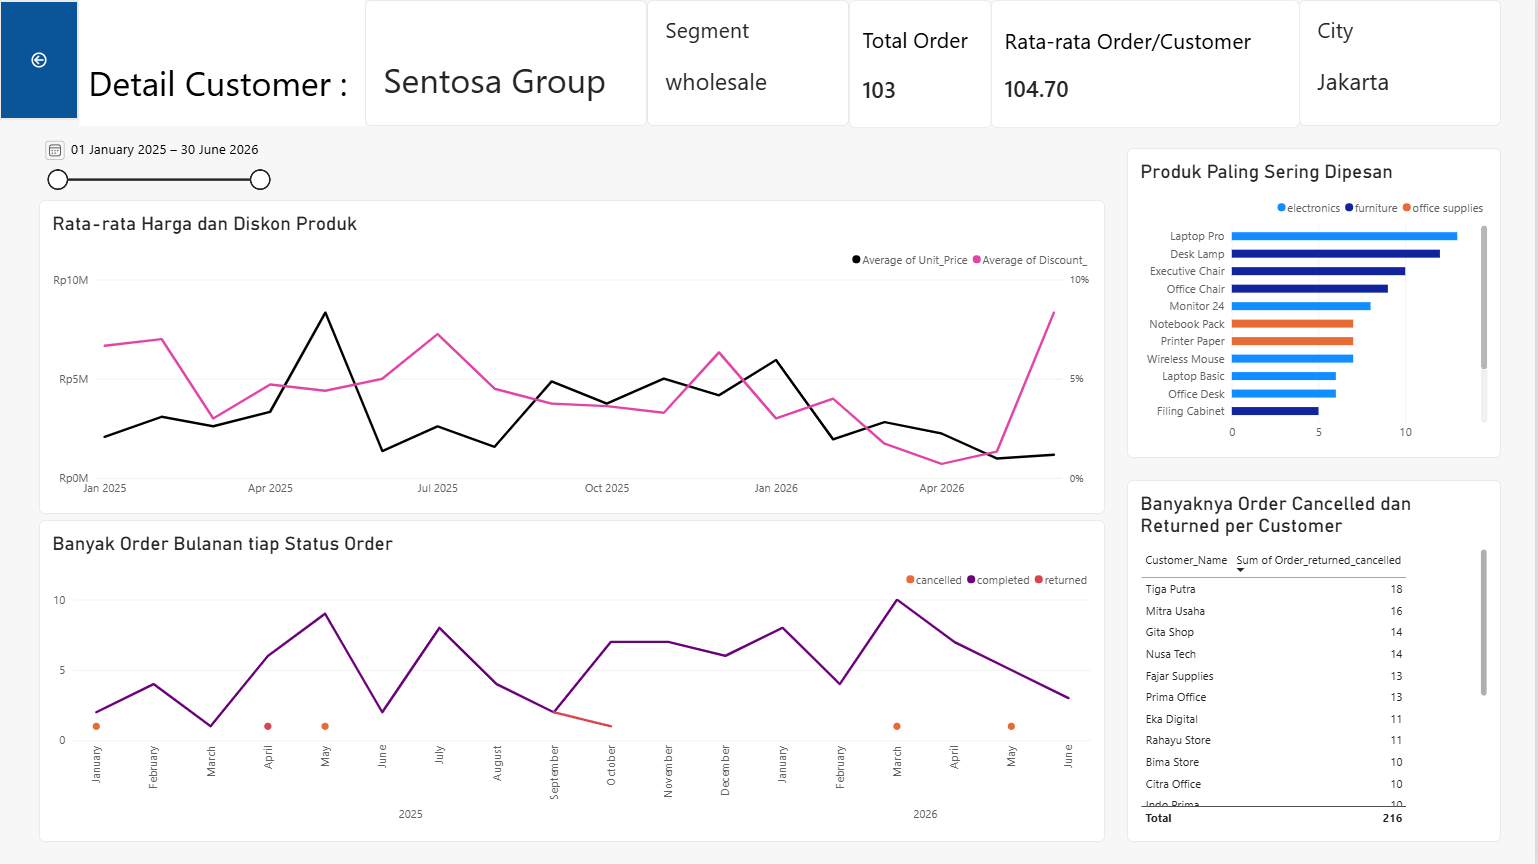

The dashboard page shown, as its layout file describes it:
{"tool":"powerbi","page":{"name":"Customer Details","canvas":[1920,1080],"ordinal":2},"visuals":[{"type":"actionButton","box":[0,0,100,40],"z":0},{"type":"cardVisual","fields":{"Data":["sales_all.Total Order"]},"box":[1062,0,178,160],"z":1000},{"type":"actionButton","box":[0,0,100,150],"z":2000},{"type":"tableEx","fields":{"Values":["Customers_Raw.Customer_Name"]},"box":[457.5,0,352.5,157.5],"z":3000},{"type":"textbox","box":[100,0,357.5,157.5],"z":4000},{"type":"tableEx","fields":{"Values":["Customers_Raw.City"]},"box":[1625,0,252.5,157.5],"z":5000},{"type":"clusteredBarChart","title":"Banyaknya Order Cancelled dan Returned per Customer","fields":{"Category":["Customers_Raw_reference.Customer_Name"],"Y":["Sum(Customers_Raw_reference.Order_returned_cancelled)"]},"box":[1410,600,467.5,452.5],"z":6000},{"type":"barChart","title":"Produk Paling Sering Dipesan","fields":{"Category":["products_raw.Product_Name"],"Series":["products_raw.Category"],"Y":["CountNonNull(sales_all.Order_ID)"]},"box":[1410,185,467.5,387.5],"z":7000},{"type":"slicer","fields":{"Values":["DateTable.Date"]},"box":[50,170,292.5,97.5],"z":8000},{"type":"lineChart","title":"Banyak Order Bulanan tiap Status Order","fields":{"Category":["DateTable.Date.Variation.Date Hierarchy.Year","DateTable.Date.Variation.Date Hierarchy.Month"],"Series":["sales_all.Order_Status"],"Y":["CountNonNull(sales_all.Order_ID)"]},"box":[50,650,1332.5,402.5],"z":9000},{"type":"tableEx","fields":{"Values":["Customers_Raw.Segment"]},"box":[810,0,252.5,157.5],"z":10000},{"type":"lineChart","title":"Rata-rata Harga dan Diskon Produk","fields":{"Category":["DateTable.Date.Variation.Date Hierarchy.Year","DateTable.Date.Variation.Date Hierarchy.Month"],"Y":["Avg(sales_all.Unit_Price)"],"Y2":["Avg(sales_all.Discount_calculated)"]},"box":[50,250,1332.5,392.5],"z":11000},{"type":"cardVisual","fields":{"Data":["sales_all.Avg Order Customer (All)"]},"box":[1240,0,386,160],"z":12000}]}

Visuals, with their boxes in screenshot pixels (x1, y1, x2, y2), scaled from the page's 1920x1080 canvas onto the 1538x864 screenshot:
actionButton: <bbox>0, 0, 80, 32</bbox>
cardVisual - sales_all.Total Order: <bbox>851, 0, 993, 128</bbox>
actionButton: <bbox>0, 0, 80, 120</bbox>
tableEx - Customers_Raw.Customer_Name: <bbox>366, 0, 649, 126</bbox>
textbox: <bbox>80, 0, 366, 126</bbox>
tableEx - Customers_Raw.City: <bbox>1302, 0, 1504, 126</bbox>
"Banyaknya Order Cancelled dan Returned per Customer" clusteredBarChart: <bbox>1129, 480, 1504, 842</bbox>
"Produk Paling Sering Dipesan" barChart: <bbox>1129, 148, 1504, 458</bbox>
slicer - DateTable.Date: <bbox>40, 136, 274, 214</bbox>
"Banyak Order Bulanan tiap Status Order" lineChart: <bbox>40, 520, 1107, 842</bbox>
tableEx - Customers_Raw.Segment: <bbox>649, 0, 851, 126</bbox>
"Rata-rata Harga dan Diskon Produk" lineChart: <bbox>40, 200, 1107, 514</bbox>
cardVisual - sales_all.Avg Order Customer (All): <bbox>993, 0, 1302, 128</bbox>
